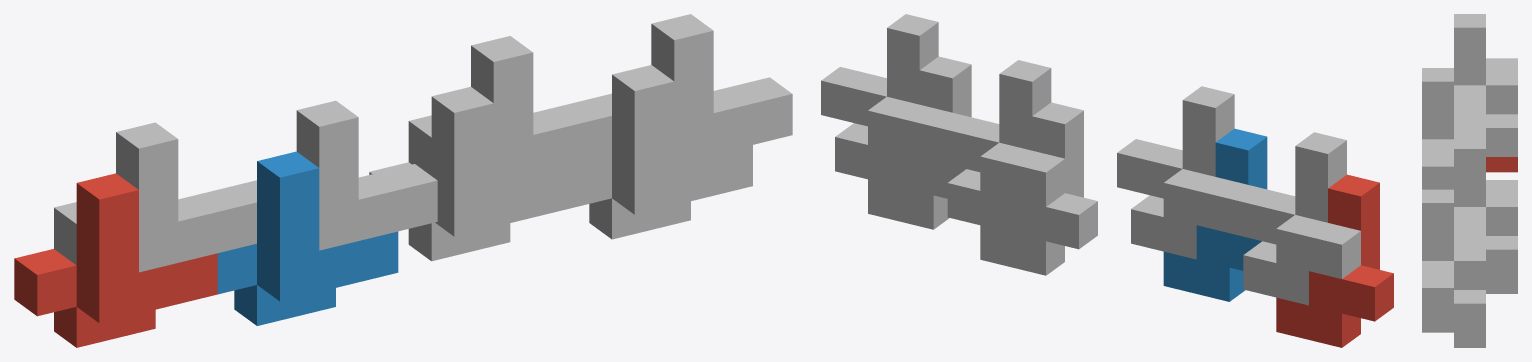
File: tiling.obj
3 views of the same model, side by side, from view 1: azimuth 30°, elevation 25°; view 2: azimuth 150°, elevation 25°; view 3: azimuth 270°, elevation 25° (orthographic). The views are drawn at different scales.
Visible parts, largest first — view 1: copy_1_domain_1, copy_1_domain_2, copy_1_domain_6, copy_1_domain_5, copy_1_domain_7, copy_1_domain_3, copy_1_domain_8, copy_1_domain_4; view 2: copy_1_domain_7, copy_1_domain_3, copy_1_domain_4, copy_1_domain_8, copy_1_domain_1, copy_1_domain_5, copy_1_domain_2, copy_1_domain_6; view 3: copy_1_domain_8, copy_1_domain_3, copy_1_domain_7, copy_1_domain_4, copy_1_domain_6, copy_1_domain_1, copy_1_domain_5.
Boxes of the visible parts, x1,y1,x2,y2 form: copy_1_domain_1: [14, 173, 217, 347]; copy_1_domain_2: [217, 151, 398, 325]; copy_1_domain_6: [572, 65, 752, 239]; copy_1_domain_5: [369, 86, 572, 261]; copy_1_domain_7: [408, 36, 611, 185]; copy_1_domain_3: [54, 122, 256, 272]; copy_1_domain_8: [589, 14, 792, 163]; copy_1_domain_4: [235, 100, 437, 250]; copy_1_domain_7: [933, 60, 1064, 233]; copy_1_domain_3: [1229, 132, 1360, 305]; copy_1_domain_4: [1117, 86, 1247, 259]; copy_1_domain_8: [821, 14, 951, 187]; copy_1_domain_1: [1276, 174, 1393, 347]; copy_1_domain_5: [980, 102, 1097, 275]; copy_1_domain_2: [1163, 128, 1267, 301]; copy_1_domain_6: [868, 56, 971, 229]; copy_1_domain_8: [1422, 189, 1485, 332]; copy_1_domain_3: [1454, 14, 1517, 156]; copy_1_domain_7: [1454, 135, 1517, 278]; copy_1_domain_4: [1422, 68, 1485, 189]; copy_1_domain_6: [1422, 317, 1485, 347]; copy_1_domain_1: [1486, 157, 1517, 172]; copy_1_domain_5: [1486, 278, 1517, 293].
Size of the model in its own units: 18 by 5 by 3.
